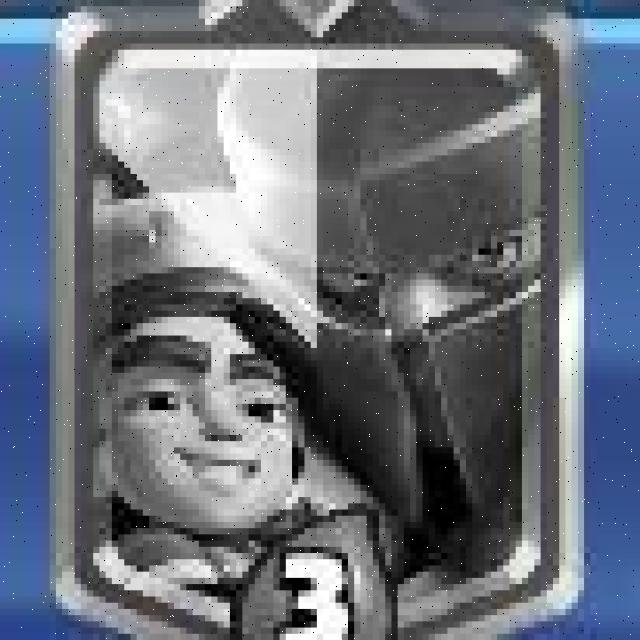Little_Prince: (54, 3, 583, 640)
